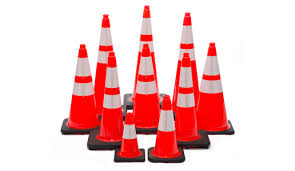cones: (61, 45, 104, 134), (174, 54, 211, 149), (199, 44, 237, 136), (90, 51, 125, 150), (133, 43, 161, 132), (149, 95, 184, 163), (96, 13, 114, 112), (115, 111, 145, 163), (177, 13, 198, 66), (133, 7, 155, 55)
